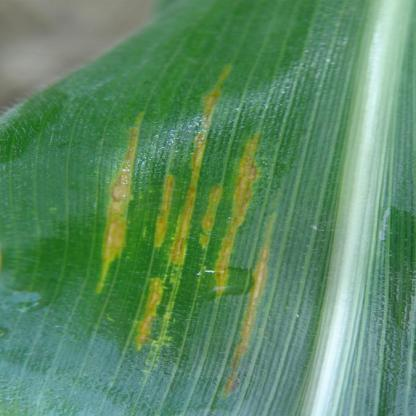Corn leaf blight: (25, 8, 372, 416)
